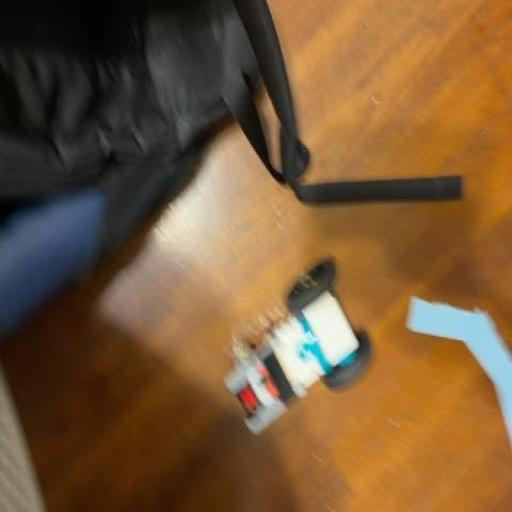Opponent: (219, 255, 377, 440)
